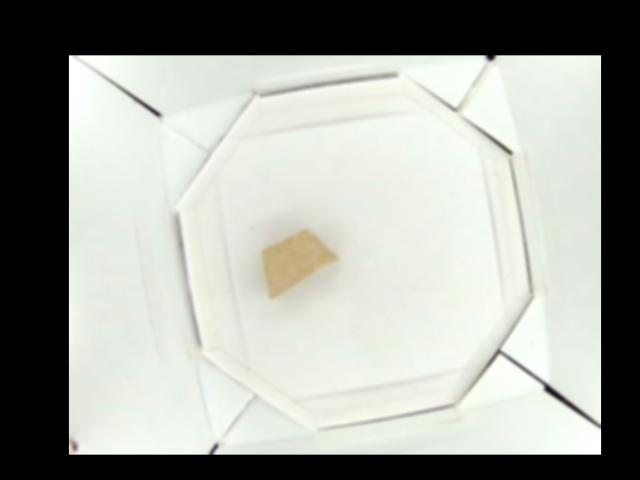China: (262, 229, 342, 295)
